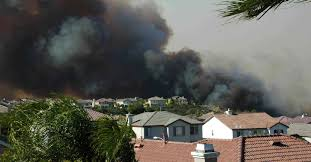smoke: (1, 1, 172, 97), (174, 48, 311, 107)
